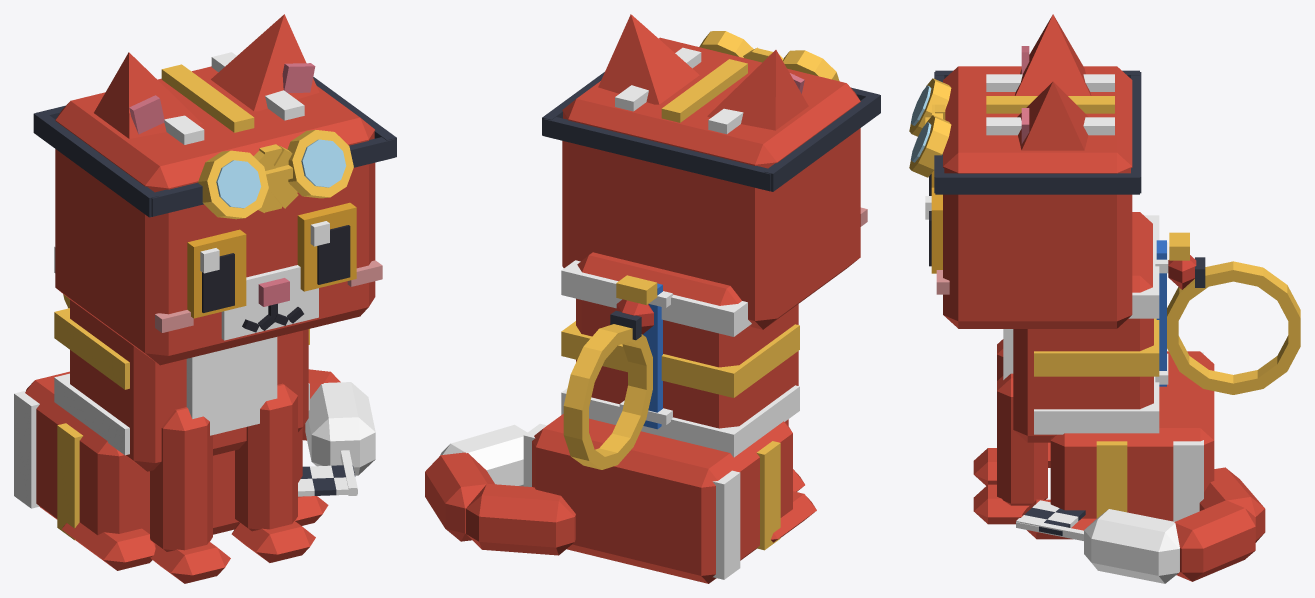
File: CatCafe_Cat_Coaster_Sit.fbx
3 views of the same model, side by side, from view 1: azimuth 30°, elevation 25°; view 2: azimuth 150°, elevation 25°; view 3: azimuth 270°, elevation 25° (orthographic). The views are drawn at different scales.
Parts seen in each view (by area): view 1: CatCafe_Cat_Coaster_Sit_Head, CatCafe_Cat_Coaster_Sit_Body, CatCafe_Cat_Coaster_Sit_Prop, CatCafe_Cat_Coaster_Sit_LegF2, CatCafe_Cat_Coaster_Sit_LegF1, CatCafe_Cat_Coaster_Sit_Tail, CatCafe_Cat_Coaster_Sit_EarL, CatCafe_Cat_Coaster_Sit_Eye2, CatCafe_Cat_Coaster_Sit_Eye1, CatCafe_Cat_Coaster_Sit_EarR, CatCafe_Cat_Coaster_Sit_Tail_Flag; view 2: CatCafe_Cat_Coaster_Sit_Body, CatCafe_Cat_Coaster_Sit_Head, CatCafe_Cat_Coaster_Sit_Tail, CatCafe_Cat_Coaster_Sit_Prop, CatCafe_Cat_Coaster_Sit_Loop_Glow, CatCafe_Cat_Coaster_Sit_EarL, CatCafe_Cat_Coaster_Sit_Prop2, CatCafe_Cat_Coaster_Sit_EarR; view 3: CatCafe_Cat_Coaster_Sit_Head, CatCafe_Cat_Coaster_Sit_Body, CatCafe_Cat_Coaster_Sit_Tail, CatCafe_Cat_Coaster_Sit_Prop, CatCafe_Cat_Coaster_Sit_Loop_Glow, CatCafe_Cat_Coaster_Sit_LegF1, CatCafe_Cat_Coaster_Sit_EarL, CatCafe_Cat_Coaster_Sit_EarR, CatCafe_Cat_Coaster_Sit_Prop2, CatCafe_Cat_Coaster_Sit_Tail_Flag, CatCafe_Cat_Coaster_Sit_Eye1, CatCafe_Cat_Coaster_Sit_LegF2.
Part boxes in pixels (<box>): CatCafe_Cat_Coaster_Sit_Head: <box>55,52,382,365</box>; CatCafe_Cat_Coaster_Sit_Body: <box>14,246,328,570</box>; CatCafe_Cat_Coaster_Sit_Prop: <box>33,77,396,219</box>; CatCafe_Cat_Coaster_Sit_LegF2: <box>150,407,230,583</box>; CatCafe_Cat_Coaster_Sit_LegF1: <box>231,383,315,562</box>; CatCafe_Cat_Coaster_Sit_Tail: <box>302,369,375,475</box>; CatCafe_Cat_Coaster_Sit_EarL: <box>211,14,319,111</box>; CatCafe_Cat_Coaster_Sit_Eye2: <box>187,229,246,318</box>; CatCafe_Cat_Coaster_Sit_Eye1: <box>297,202,356,291</box>; CatCafe_Cat_Coaster_Sit_EarR: <box>94,52,202,138</box>; CatCafe_Cat_Coaster_Sit_Tail_Flag: <box>298,450,357,496</box>; CatCafe_Cat_Coaster_Sit_Body: <box>523,252,816,583</box>; CatCafe_Cat_Coaster_Sit_Head: <box>562,37,867,329</box>; CatCafe_Cat_Coaster_Sit_Tail: <box>425,424,575,555</box>; CatCafe_Cat_Coaster_Sit_Prop: <box>542,31,880,191</box>; CatCafe_Cat_Coaster_Sit_Loop_Glow: <box>563,324,652,469</box>; CatCafe_Cat_Coaster_Sit_EarL: <box>598,14,699,104</box>; CatCafe_Cat_Coaster_Sit_Prop2: <box>610,275,672,429</box>; CatCafe_Cat_Coaster_Sit_EarR: <box>707,50,808,130</box>; CatCafe_Cat_Coaster_Sit_Head: <box>932,66,1132,328</box>; CatCafe_Cat_Coaster_Sit_Body: <box>1003,212,1214,539</box>; CatCafe_Cat_Coaster_Sit_Tail: <box>1084,467,1265,583</box>; CatCafe_Cat_Coaster_Sit_Prop: <box>909,70,1141,194</box>; CatCafe_Cat_Coaster_Sit_Loop_Glow: <box>1167,261,1300,394</box>; CatCafe_Cat_Coaster_Sit_LegF1: <box>973,373,1047,524</box>; CatCafe_Cat_Coaster_Sit_EarL: <box>1017,81,1088,150</box>; CatCafe_Cat_Coaster_Sit_EarR: <box>1015,14,1091,95</box>; CatCafe_Cat_Coaster_Sit_Prop2: <box>1155,232,1205,386</box>; CatCafe_Cat_Coaster_Sit_Tail_Flag: <box>1016,500,1085,540</box>; CatCafe_Cat_Coaster_Sit_Eye1: <box>925,187,942,273</box>; CatCafe_Cat_Coaster_Sit_LegF2: <box>973,339,1003,485</box>.
Size of the model in its own units: 1.57 by 2.22 by 1.74.
1 material, 1 textured.
